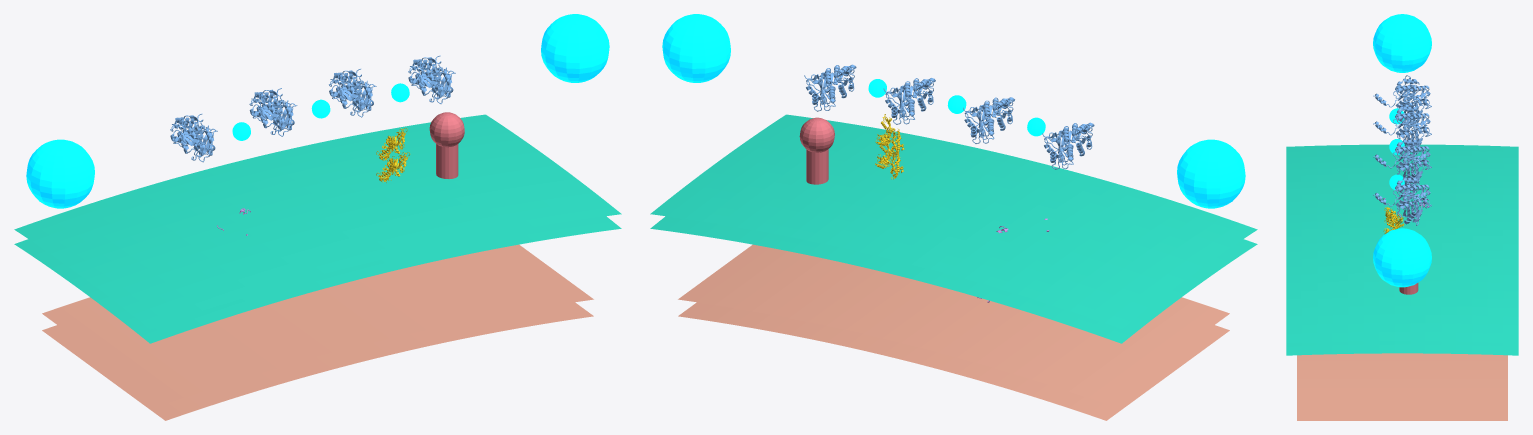
The model's file is 1FSZ_assembled_pieces.glb.
The picture shows the model from 3 angles, left to right: view 1: azimuth 30°, elevation 25°; view 2: azimuth 150°, elevation 25°; view 3: azimuth 270°, elevation 25°; orthographic projection. The views are drawn at different scales.
Parts seen in each view (by area): view 1: Piece_FtsZ_Inner_Membrane, Piece_FtsZ_Septal_Wall, Piece_FtsZ_MinCDE_Barrier, Piece_FtsZ_Protofilaments, Piece_FtsZ_ZipA_Transmembrane, Piece_FtsZ_FtsA_Anchor, Piece_FtsZ_GTP_Pockets; view 2: Piece_FtsZ_Inner_Membrane, Piece_FtsZ_Septal_Wall, Piece_FtsZ_MinCDE_Barrier, Piece_FtsZ_Protofilaments, Piece_FtsZ_ZipA_Transmembrane, Piece_FtsZ_FtsA_Anchor, Piece_FtsZ_GTP_Pockets; view 3: Piece_FtsZ_Inner_Membrane, Piece_FtsZ_Septal_Wall, Piece_FtsZ_MinCDE_Barrier, Piece_FtsZ_Protofilaments, Piece_FtsZ_GTP_Pockets, Piece_FtsZ_FtsA_Anchor.
Part boxes in pixels (x1,y1,x2,y2): Piece_FtsZ_Inner_Membrane: (14,114,621,343); Piece_FtsZ_Septal_Wall: (42,244,593,420); Piece_FtsZ_MinCDE_Barrier: (26,14,609,208); Piece_FtsZ_Protofilaments: (170,55,455,162); Piece_FtsZ_ZipA_Transmembrane: (429,112,464,178); Piece_FtsZ_FtsA_Anchor: (376,128,410,182); Piece_FtsZ_GTP_Pockets: (232,83,409,140); Piece_FtsZ_Inner_Membrane: (650,114,1257,343); Piece_FtsZ_Septal_Wall: (678,244,1229,420); Piece_FtsZ_MinCDE_Barrier: (662,14,1245,208); Piece_FtsZ_Protofilaments: (804,64,1094,169); Piece_FtsZ_ZipA_Transmembrane: (799,117,834,184); Piece_FtsZ_FtsA_Anchor: (875,114,904,179); Piece_FtsZ_GTP_Pockets: (868,79,1045,136); Piece_FtsZ_Inner_Membrane: (1286,144,1518,355); Piece_FtsZ_Septal_Wall: (1297,353,1507,420); Piece_FtsZ_MinCDE_Barrier: (1373,14,1431,287); Piece_FtsZ_Protofilaments: (1373,75,1431,225); Piece_FtsZ_GTP_Pockets: (1389,108,1404,189); Piece_FtsZ_FtsA_Anchor: (1383,207,1404,233).
Bounding box in the file's own units: 26.8 × 10.85 × 11.
